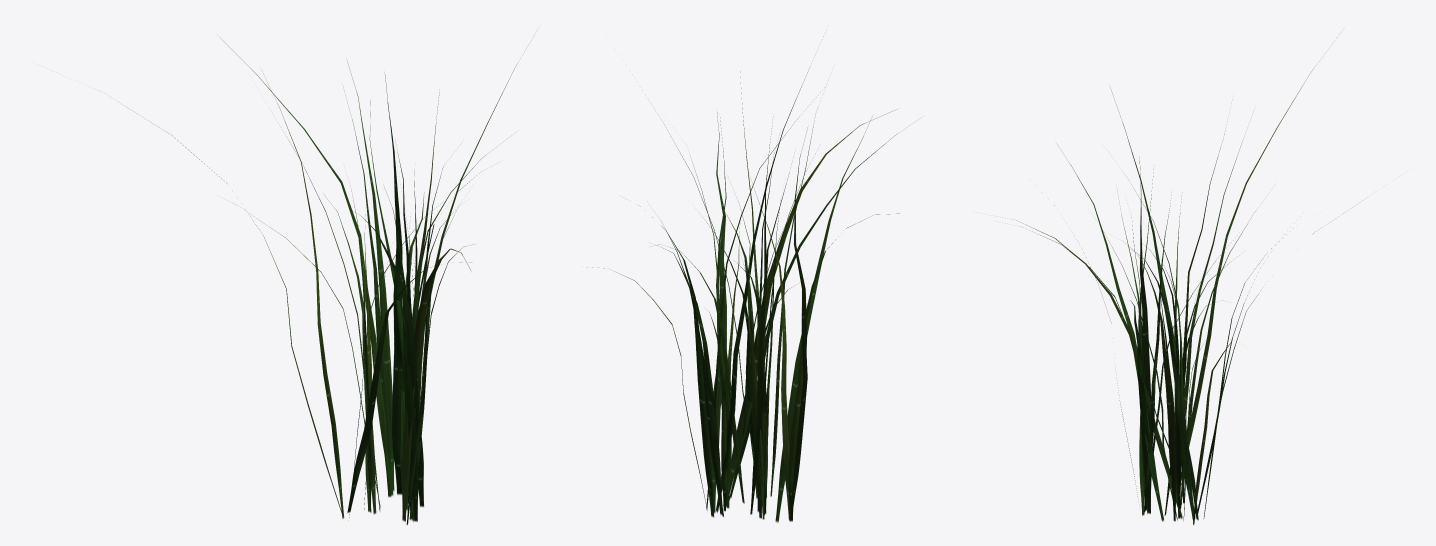
Rendered from Wetland_Cattail_0.glb.
The picture shows the model from 3 angles, left to right: view 1: azimuth 30°, elevation 25°; view 2: azimuth 150°, elevation 25°; view 3: azimuth 270°, elevation 25°; orthographic projection. The views are drawn at different scales.
Visible parts, largest first — view 1: Wetland_Cattail_0; view 2: Wetland_Cattail_0; view 3: Wetland_Cattail_0.
Boxes of the visible parts, <box> form: Wetland_Cattail_0: <box>127,36,533,524</box>; Wetland_Cattail_0: <box>587,36,899,522</box>; Wetland_Cattail_0: <box>1012,66,1315,524</box>.
Bounding box in the file's own units: 2 × 2.21 × 2.17.
1 material, 1 textured.
